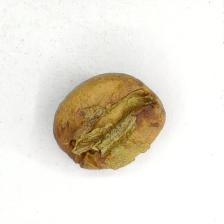NG: (73, 87, 147, 165)
